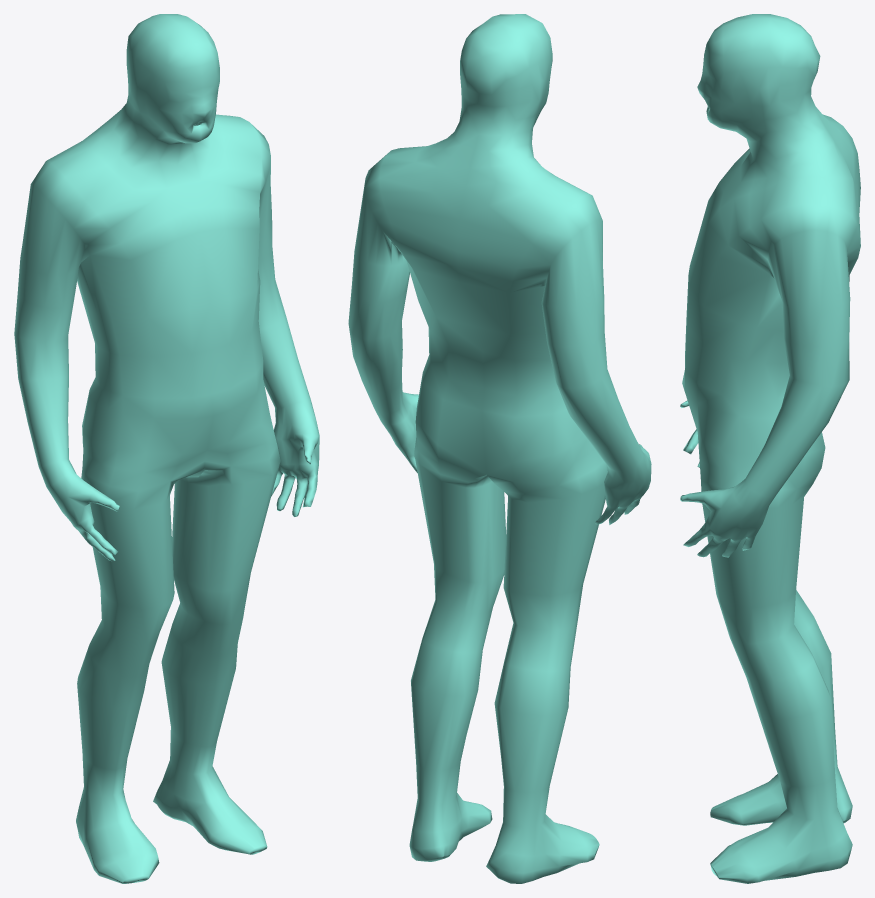
Rendered from nenecortes.fbx.
The picture shows the model from 3 angles, left to right: view 1: azimuth 30°, elevation 25°; view 2: azimuth 150°, elevation 25°; view 3: azimuth 270°, elevation 25°; orthographic projection.
Bounding box in the file's own units: 0.5306 × 1.57 × 0.312.
